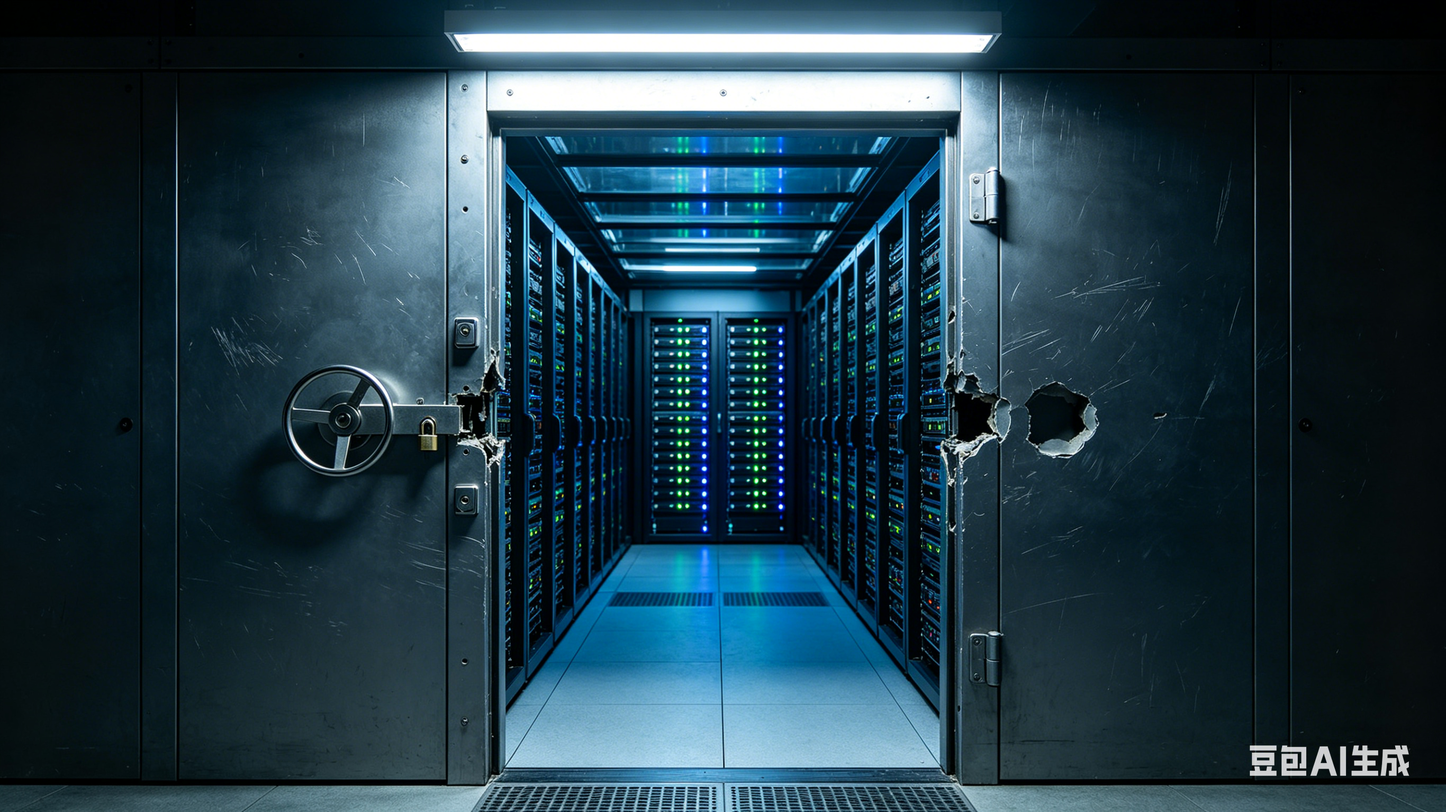BadLock: (430, 362, 511, 471)
